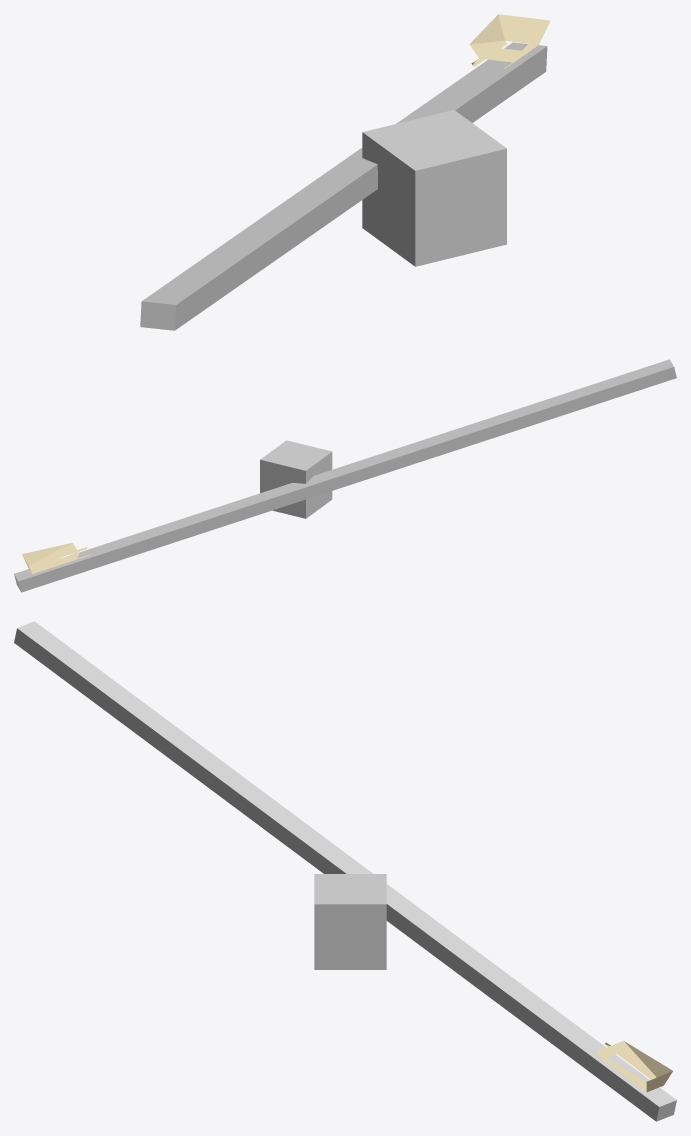
File: exp3Fixed4vaShaker2.fbx
3 views of the same model, one above another, from view 1: azimuth 30°, elevation 25°; view 2: azimuth 150°, elevation 25°; view 3: azimuth 270°, elevation 25° (orthographic). The views are drawn at different scales.
Visible parts, largest first — view 1: opruge, Cube, down; view 2: Cube, opruge, down; view 3: Cube, opruge, down.
Part boxes in pixels (bbox=[...]): opruge: bbox=[362, 110, 506, 266]; Cube: bbox=[140, 42, 547, 330]; down: bbox=[469, 14, 550, 69]; Cube: bbox=[14, 359, 676, 592]; opruge: bbox=[260, 440, 332, 518]; down: bbox=[22, 542, 90, 574]; Cube: bbox=[14, 621, 676, 1121]; opruge: bbox=[314, 874, 386, 969]; down: bbox=[589, 1040, 672, 1092].
Size of what is drawn, in the model's own units: 1890 by 654 by 1833.
